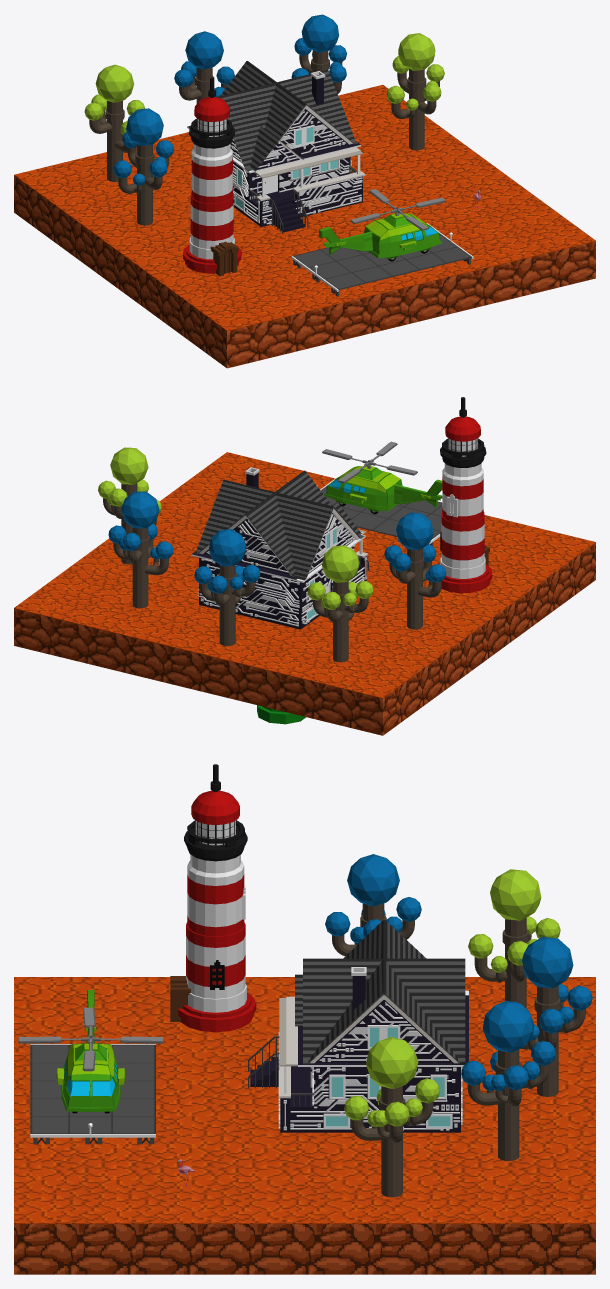
3 views of the same model, one above another, from view 1: azimuth 30°, elevation 25°; view 2: azimuth 150°, elevation 25°; view 3: azimuth 270°, elevation 25° (orthographic). The views are drawn at different scales.
Parts seen in each view (by area): view 1: Cube.001, Cube.918, OBJRANDOM_LIGHTHOUSE, VEHICLES_HELICOPTER; view 2: Cube.001, Cube.918, OBJRANDOM_LIGHTHOUSE, VEHICLES_HELICOPTER, UNDERGROUND_PIPES; view 3: Cube.001, Cube.918, OBJRANDOM_LIGHTHOUSE, VEHICLES_HELICOPTER.
Boxes of the visible parts, box(x1,y1,x2,y2) form: Cube.001: box(14, 14, 595, 368); Cube.918: box(187, 61, 365, 233); OBJRANDOM_LIGHTHOUSE: box(183, 77, 241, 276); VEHICLES_HELICOPTER: box(319, 189, 445, 261); Cube.001: box(14, 447, 595, 735); Cube.918: box(191, 467, 368, 629); OBJRANDOM_LIGHTHOUSE: box(440, 397, 492, 593); VEHICLES_HELICOPTER: box(322, 441, 442, 514); UNDERGROUND_PIPES: box(257, 705, 305, 724); Cube.001: box(14, 854, 595, 1274); Cube.918: box(248, 920, 468, 1132); OBJRANDOM_LIGHTHOUSE: box(170, 764, 256, 1032); VEHICLES_HELICOPTER: box(18, 990, 163, 1113).
Bounding box in the file's own units: 4000 × 2958 × 4000.
Materials: 40 (4 with a texture image).
